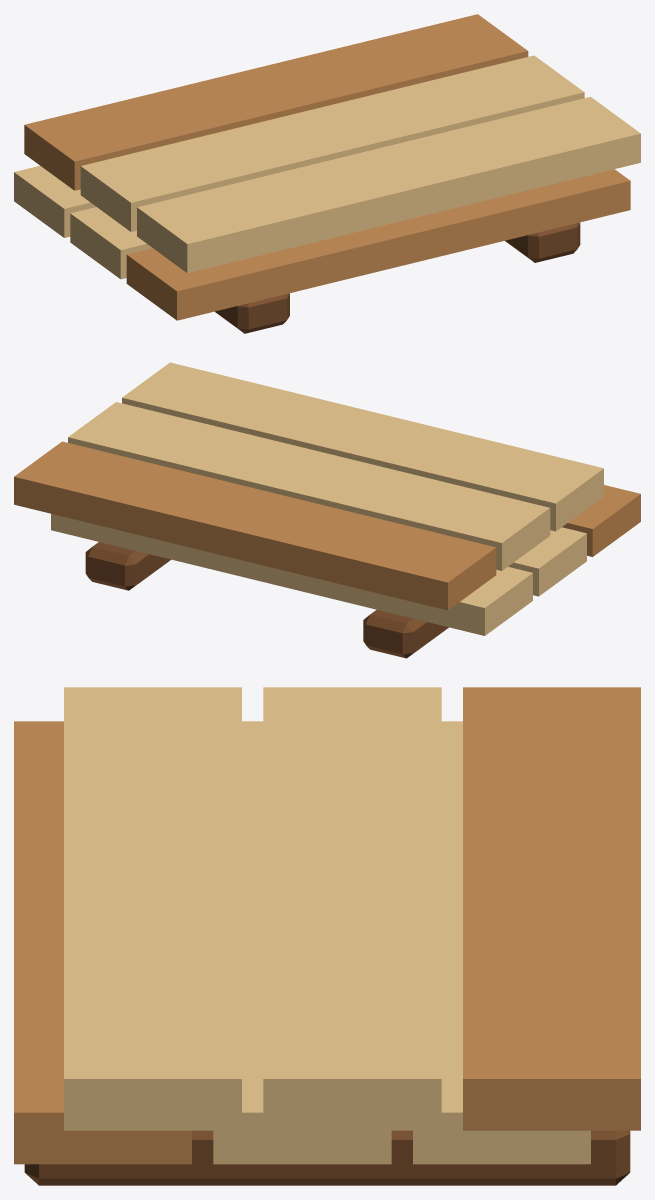
Rendered from prop_planks_s.fbx.
The picture shows the model from 3 angles, top to bottom: view 1: azimuth 30°, elevation 25°; view 2: azimuth 150°, elevation 25°; view 3: azimuth 270°, elevation 25°; orthographic projection. The views are drawn at different scales.
Parts seen in each view (by area): view 1: prop_planks_s; view 2: prop_planks_s; view 3: prop_planks_s.
Boxes of the visible parts, bbox=[...] form: prop_planks_s: bbox=[14, 14, 640, 333]; prop_planks_s: bbox=[14, 362, 640, 658]; prop_planks_s: bbox=[14, 687, 640, 1185].
Size of the model in its own units: 0.3288 by 0.0636 by 0.2112.
